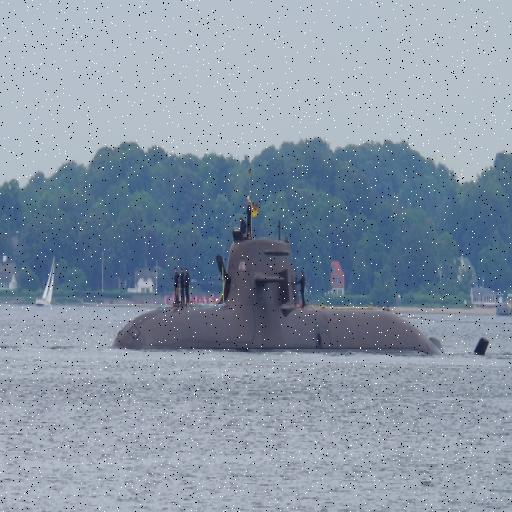submarine: (112, 235, 490, 353)
